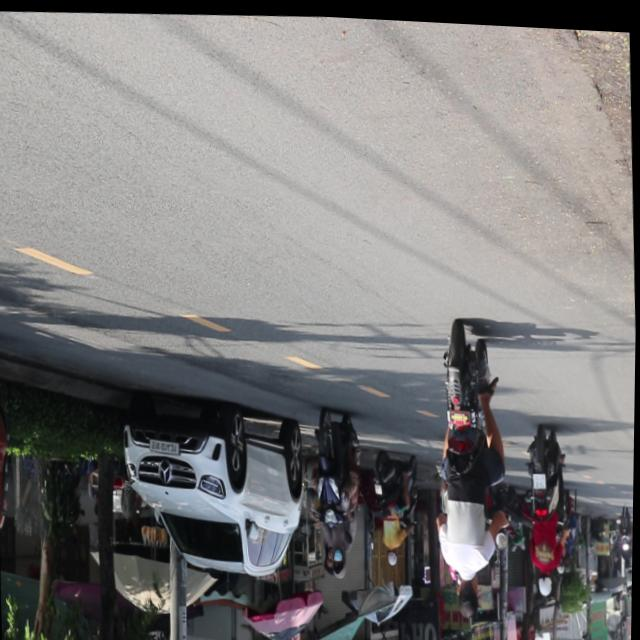helmet: (332, 545, 348, 576), (537, 565, 554, 592)
licenseplate: (429, 315, 515, 618), (309, 403, 367, 580), (522, 419, 572, 594)
motorcyclist: (455, 568, 482, 614)
nohelmet: (533, 467, 547, 483)
